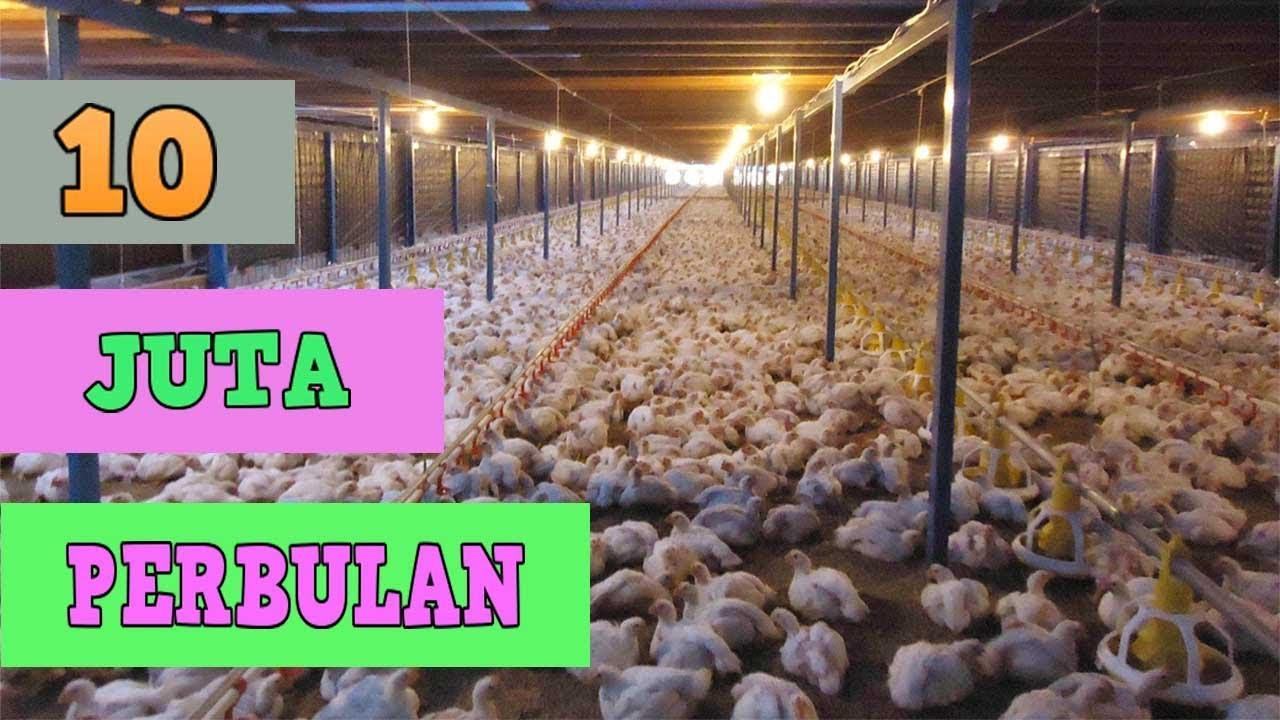chicken: (891, 631, 986, 706), (650, 597, 740, 676), (593, 661, 709, 718), (773, 607, 847, 693), (784, 547, 869, 621), (676, 581, 781, 637), (986, 620, 1086, 676), (999, 675, 1114, 720), (647, 511, 725, 576), (917, 563, 991, 626), (727, 674, 816, 720), (834, 517, 927, 561), (687, 560, 776, 605), (998, 569, 1061, 629), (697, 497, 769, 542), (949, 521, 1007, 569), (767, 493, 823, 541)
